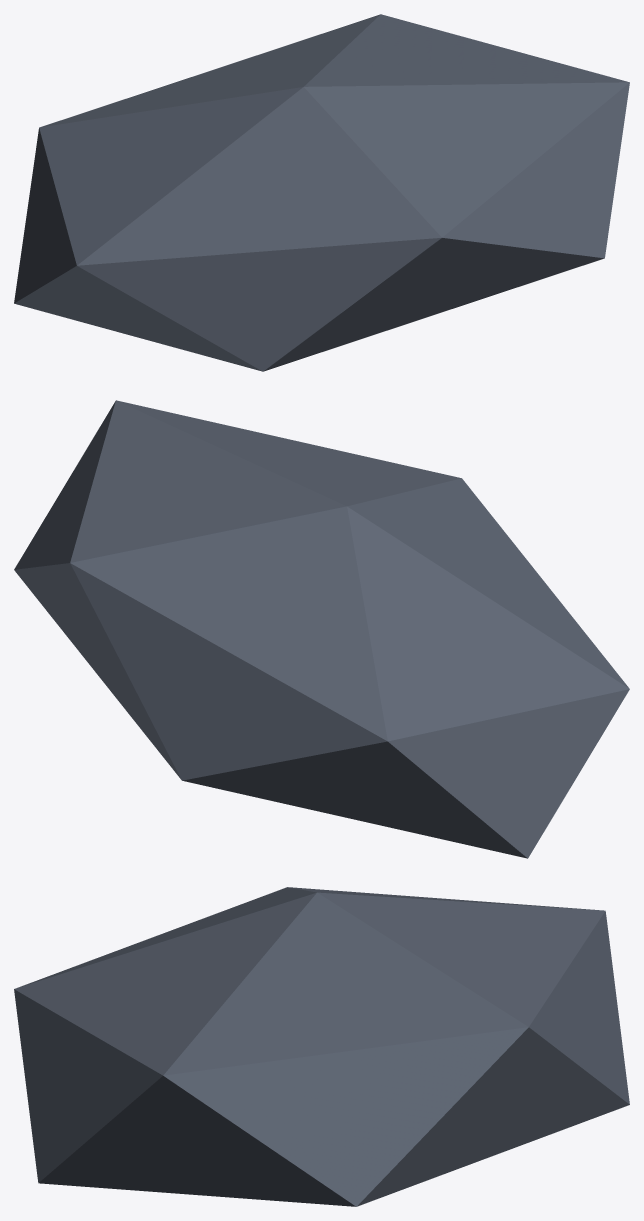
Rendered from EXTG_SouthLooseStone_03.glb.
3 renders of one model, top to bottom at view 1: azimuth 30°, elevation 25°; view 2: azimuth 150°, elevation 25°; view 3: azimuth 270°, elevation 25°, orthographic. The views are drawn at different scales.
Visible parts, largest first — view 1: EXTG_SouthLooseStone_03; view 2: EXTG_SouthLooseStone_03; view 3: EXTG_SouthLooseStone_03.
Part boxes in pixels (box(x1,y1,x2,y2)): EXTG_SouthLooseStone_03: box(14, 14, 629, 371); EXTG_SouthLooseStone_03: box(14, 400, 629, 858); EXTG_SouthLooseStone_03: box(14, 887, 629, 1206).
Size of the model in its own units: 0.7949 by 0.3301 by 0.649.
